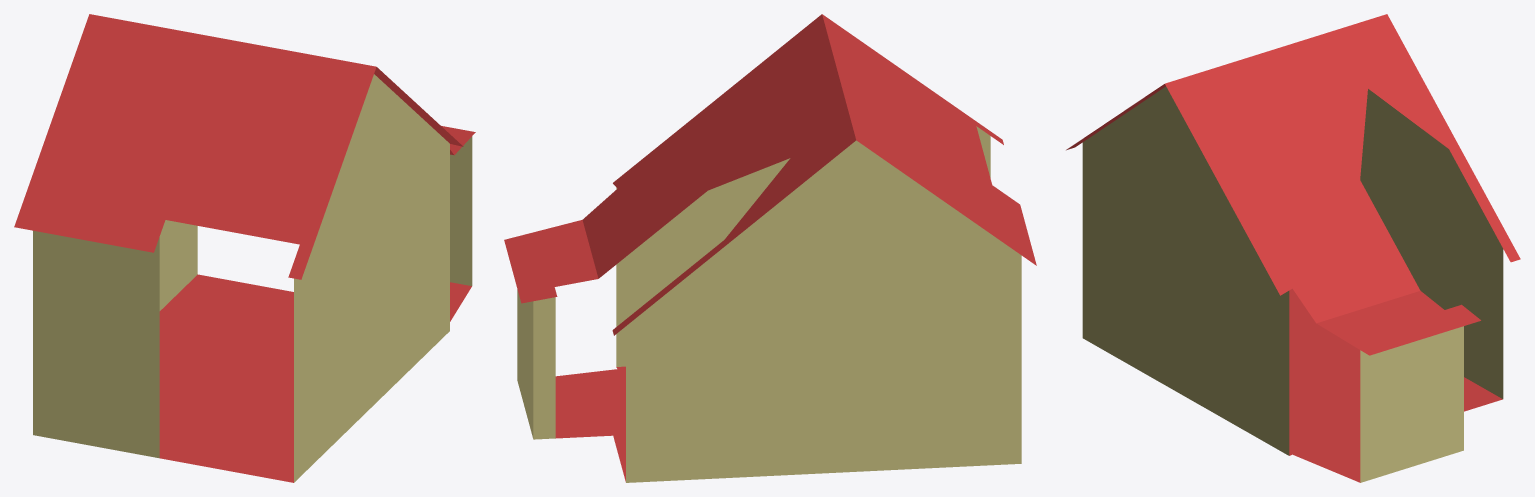
3 views of the same model, side by side, from view 1: azimuth 30°, elevation 25°; view 2: azimuth 150°, elevation 25°; view 3: azimuth 270°, elevation 25° (orthographic). The views are drawn at different scales.
Bounding box in the file's own units: 20.6 × 18.1 × 13.6.
